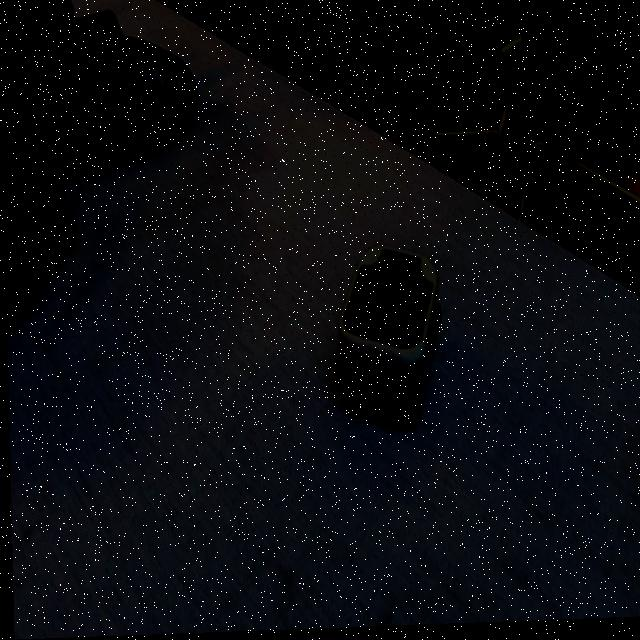adapter: (332, 244, 442, 433)
